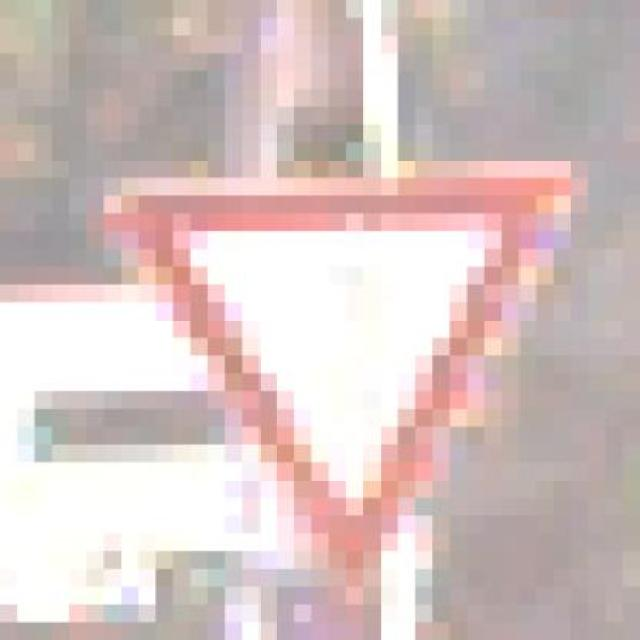Give Way: (69, 142, 623, 622)
